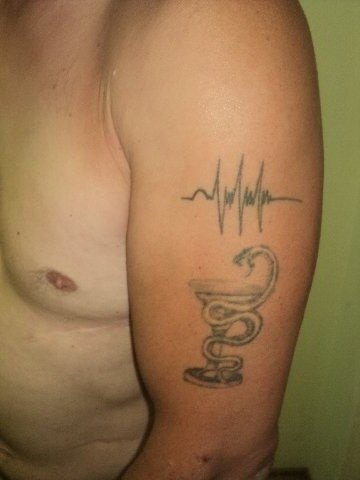tatu7_zmeya: (177, 234, 282, 404)
